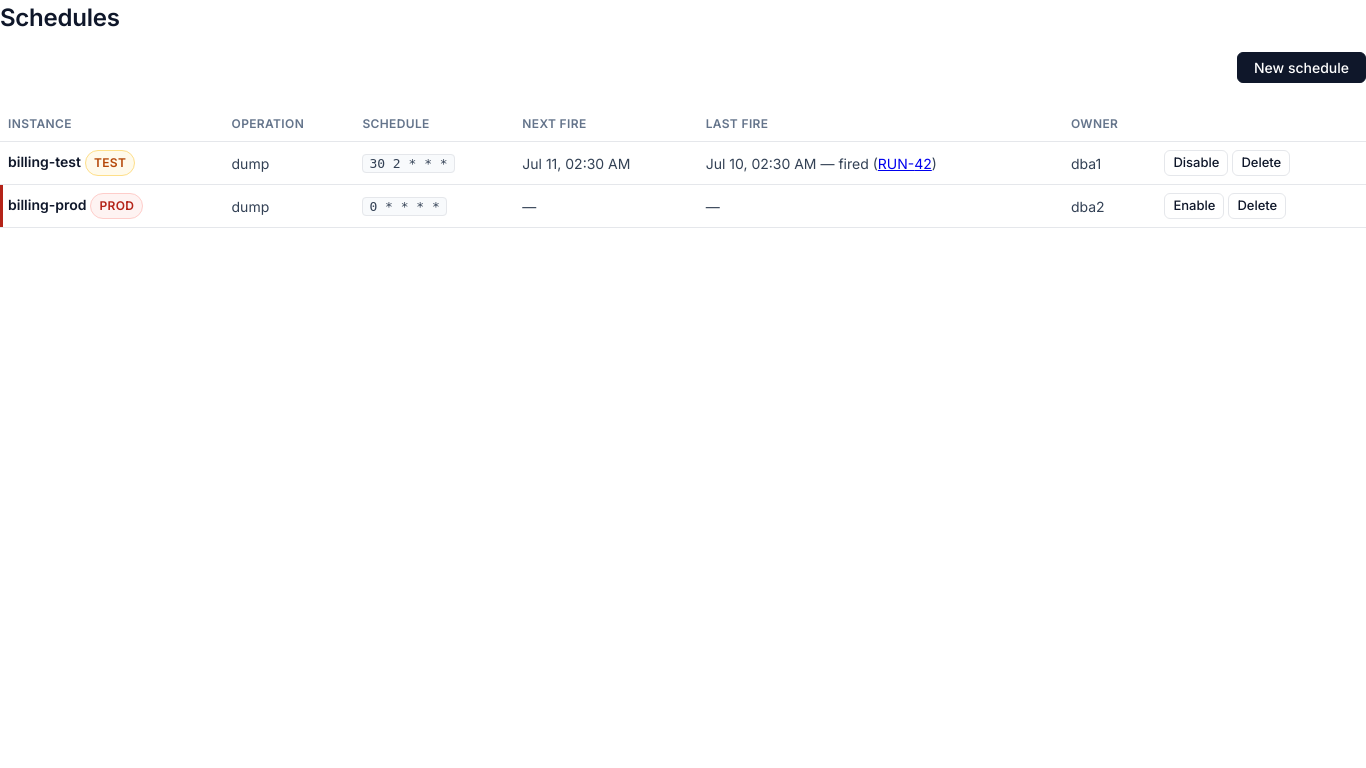
Test: server 400 renders its message in the form error slot
Expected: the table is shown, [0,107,1365,228]
Click the button "New schedule" at {"x": 1302, "y": 68}, box [1237,52,1365,83]
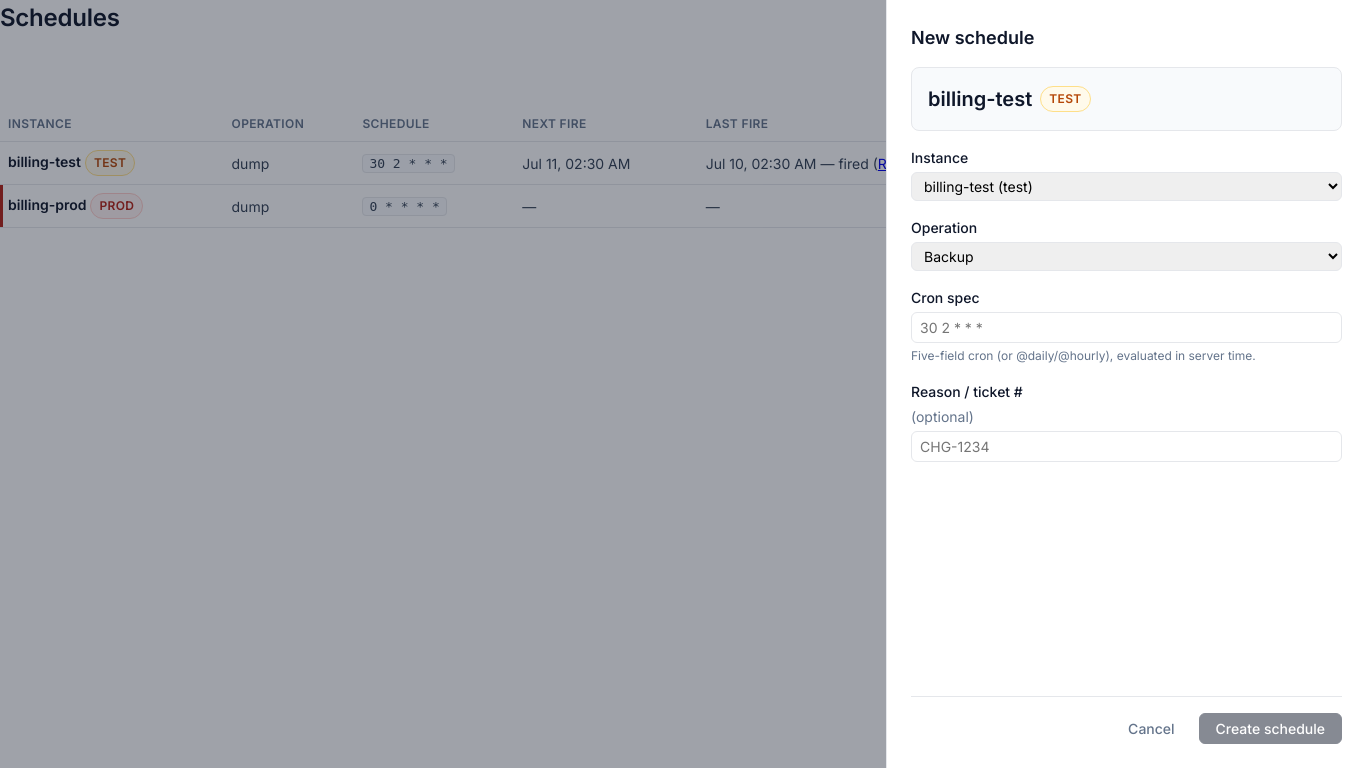
Type "garbage" into the field labelled "Cron spec" at {"x": 1126, "y": 328}, box [911,312,1342,343]
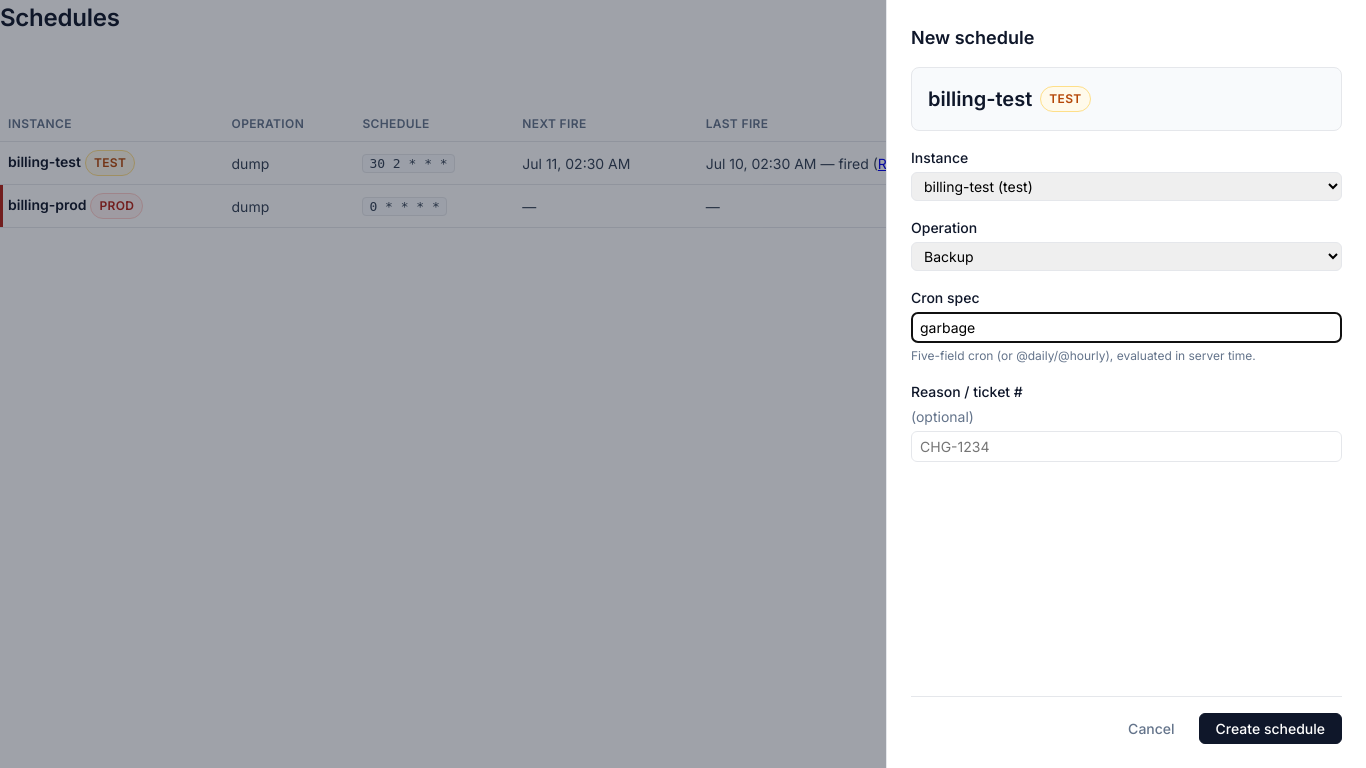
Click the button "Create schedule" at {"x": 1270, "y": 728}, box [1199,713,1342,744]
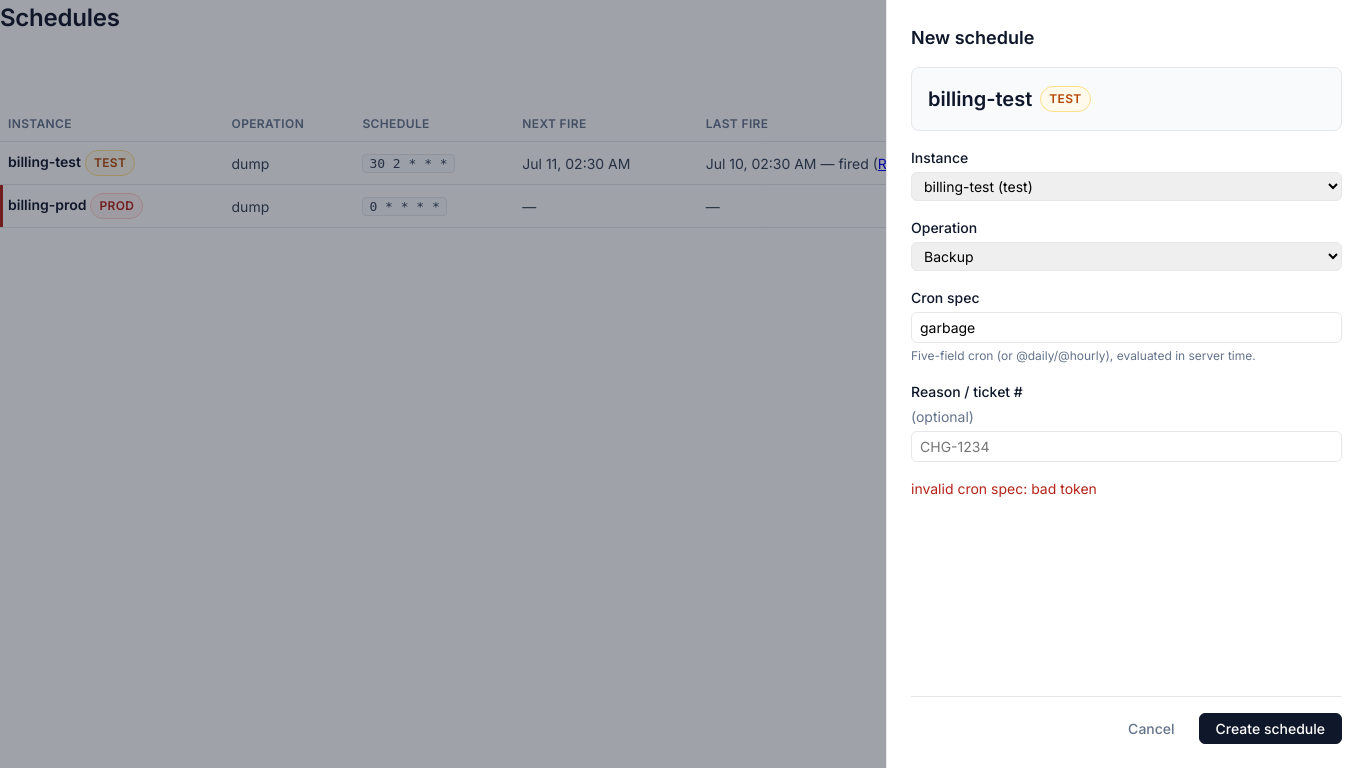
Expected: the message reads "invalid cron spec: bad token", [911,480,1097,497]
